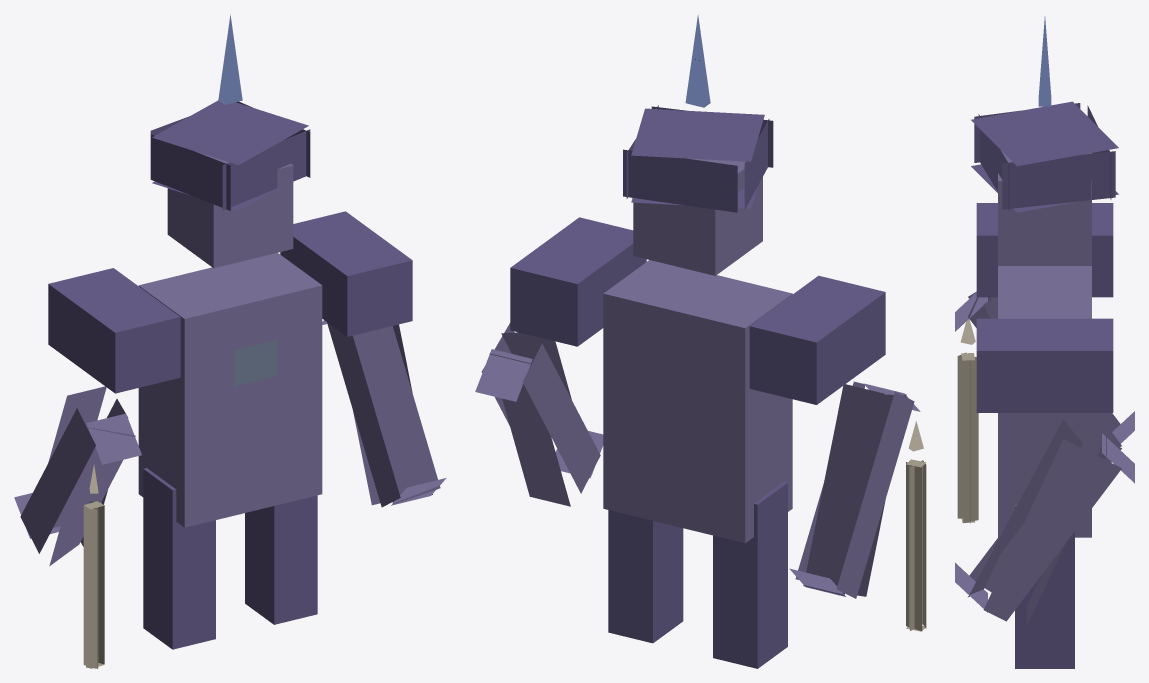
The model's file is uesugi-04.glb.
3 renders of one model, left to right at view 1: azimuth 30°, elevation 25°; view 2: azimuth 150°, elevation 25°; view 3: azimuth 270°, elevation 25°, orthographic. The views are drawn at different scales.
Parts seen in each view (by area): view 1: samurai; view 2: samurai; view 3: samurai.
Boxes of the visible parts, x1,y1,x2,y2 form: samurai: [14, 14, 446, 668]; samurai: [475, 15, 926, 668]; samurai: [955, 16, 1134, 668].
Size of the model in its own units: 0.9796 by 1.6 by 0.421.
